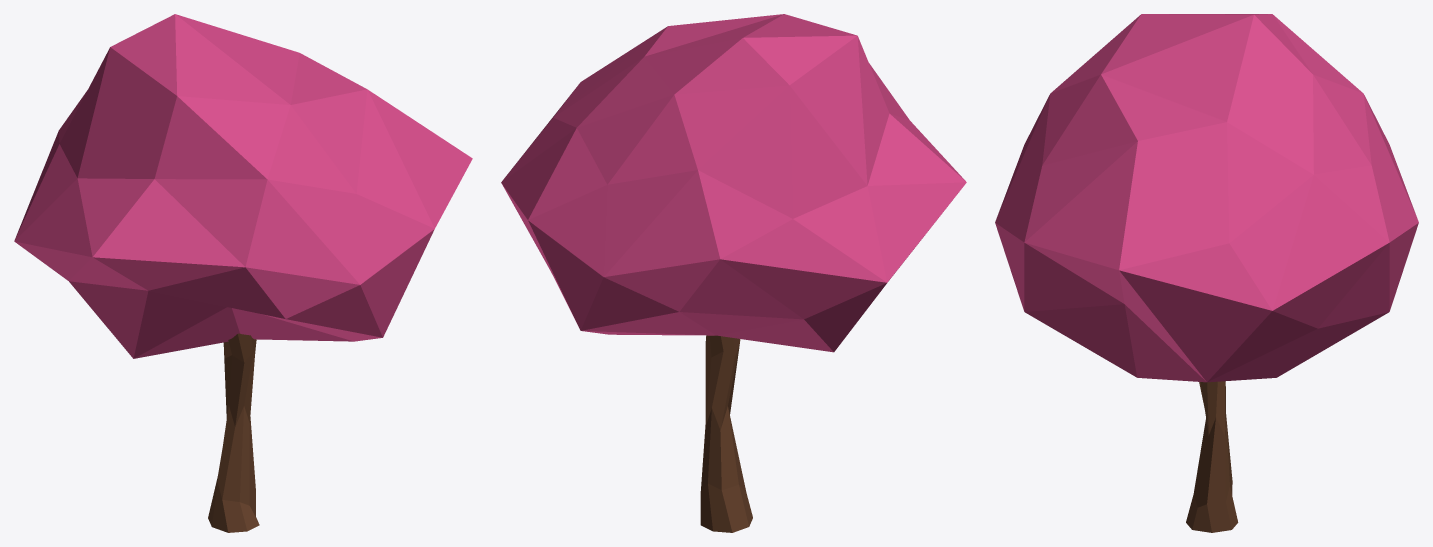
File: Tree_47_Pink.fbx
The picture shows the model from 3 angles, left to right: view 1: azimuth 30°, elevation 25°; view 2: azimuth 150°, elevation 25°; view 3: azimuth 270°, elevation 25°; orthographic projection. The views are drawn at different scales.
Visible parts, largest first — view 1: Tree_47_Pink_Part_1, Tree_47_Pink_Part_2; view 2: Tree_47_Pink_Part_1, Tree_47_Pink_Part_2; view 3: Tree_47_Pink_Part_1, Tree_47_Pink_Part_2.
Boxes of the visible parts, x1=… form: Tree_47_Pink_Part_1: x1=14, y1=14, x2=472, y2=358; Tree_47_Pink_Part_2: x1=208, y1=333, x2=259, y2=532; Tree_47_Pink_Part_1: x1=501, y1=14, x2=966, y2=352; Tree_47_Pink_Part_2: x1=700, y1=335, x2=752, y2=532; Tree_47_Pink_Part_1: x1=995, y1=14, x2=1418, y2=382; Tree_47_Pink_Part_2: x1=1186, y1=381, x2=1238, y2=532.
Bounding box in the file's own units: 630 × 794 × 622.
